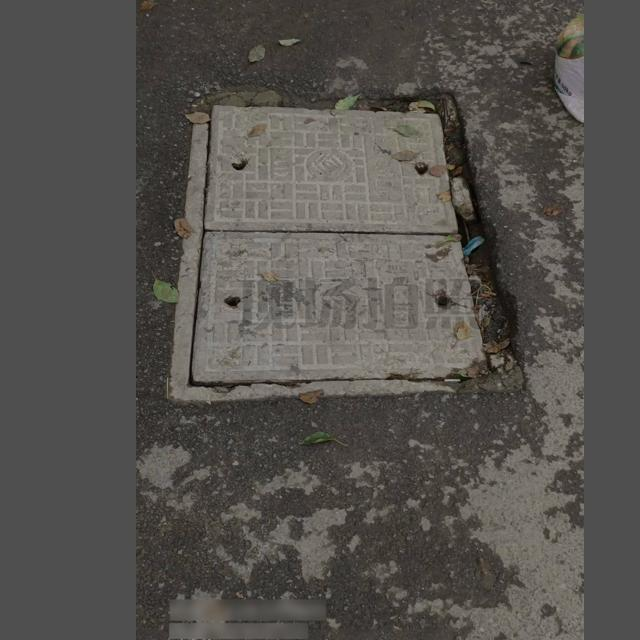circle: (173, 91, 528, 400)
